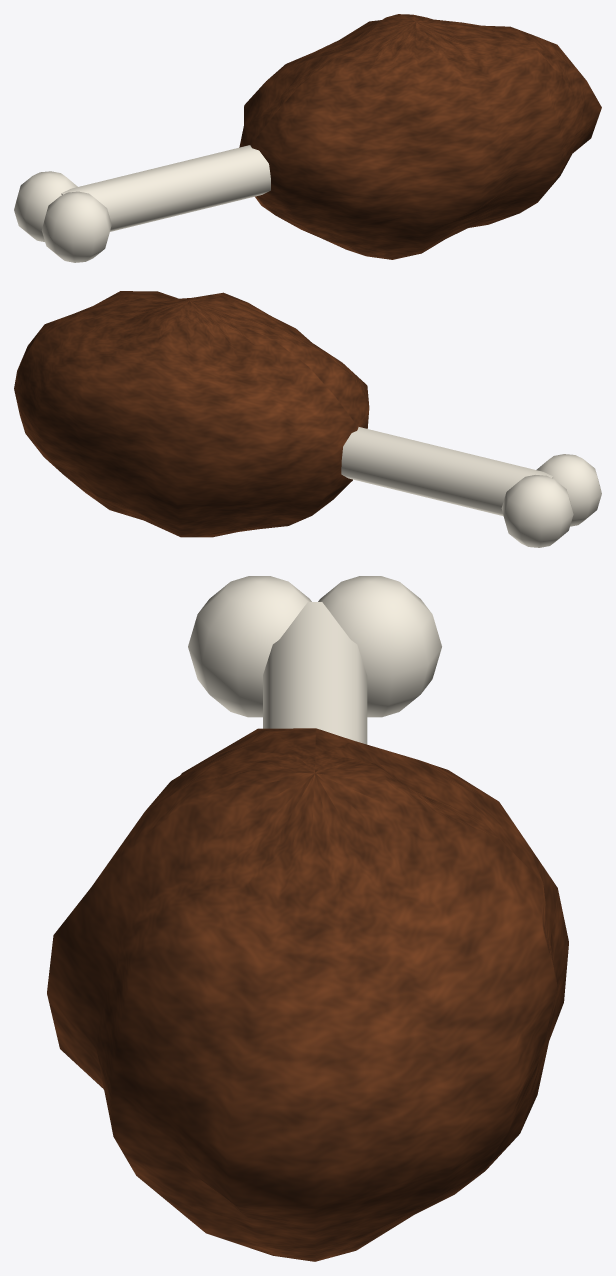
File: SM_MeatCooked.fbx
The picture shows the model from 3 angles, top to bottom: view 1: azimuth 30°, elevation 25°; view 2: azimuth 150°, elevation 25°; view 3: azimuth 270°, elevation 25°; orthographic projection. The views are drawn at different scales.
Parts seen in each view (by area): view 1: SM_MeatCooked; view 2: SM_MeatCooked; view 3: SM_MeatCooked.
Part boxes in pixels (box(x1,y1,x2,y2)): SM_MeatCooked: box(14, 14, 601, 262); SM_MeatCooked: box(14, 291, 601, 547); SM_MeatCooked: box(47, 576, 568, 1261).
Bounding box in the file's own units: 0.3903 × 0.1422 × 0.1602.
